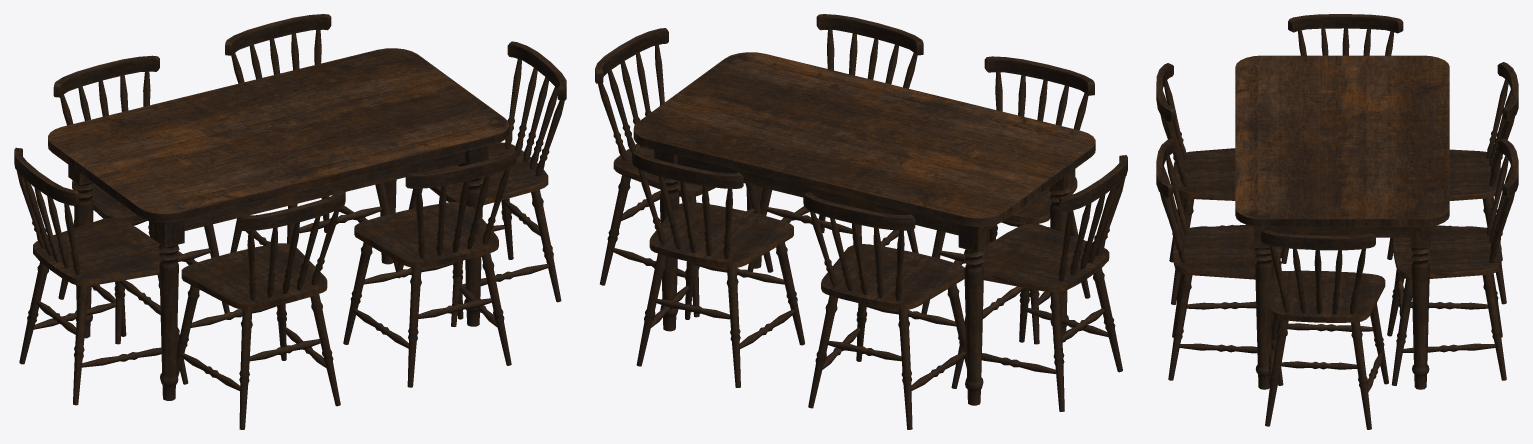
The model's file is table_set.glb.
3 views of the same model, side by side, from view 1: azimuth 30°, elevation 25°; view 2: azimuth 150°, elevation 25°; view 3: azimuth 270°, elevation 25° (orthographic). The views are drawn at different scales.
Visible parts, largest first — view 1: Table, Chair.003, Chair.002, Chair.005, Chair.004, Chair, Chair.001; view 2: Table, Chair.001, Chair, Chair.005, Chair.004, Chair.003, Chair.002; view 3: Table, Chair.004, Chair.001, Chair.002, Chair.003, Chair, Chair.005.
Boxes of the visible parts, x1,y1,x2,y2 form: Table: (48, 48, 509, 400); Chair.003: (176, 190, 345, 429); Chair.002: (343, 150, 516, 387); Chair.005: (14, 147, 188, 405); Chair.004: (396, 41, 566, 326); Chair: (53, 55, 229, 344); Chair.001: (225, 14, 397, 271); Table: (633, 52, 1095, 405); Chair.001: (632, 150, 804, 387); Chair: (803, 192, 966, 429); Chair.005: (951, 155, 1127, 411); Chair.004: (595, 28, 773, 317); Chair.003: (921, 56, 1094, 344); Chair.002: (747, 14, 923, 271); Table: (1235, 55, 1449, 389); Chair.004: (1261, 229, 1388, 429); Chair.001: (1387, 138, 1518, 385); Chair.002: (1156, 138, 1287, 385); Chair.003: (1156, 63, 1282, 304); Chair: (1387, 62, 1518, 304); Chair.005: (1281, 14, 1403, 263).
Bounding box in the file's own units: 2.07 × 0.845 × 1.41.
2 materials, 2 textured.
